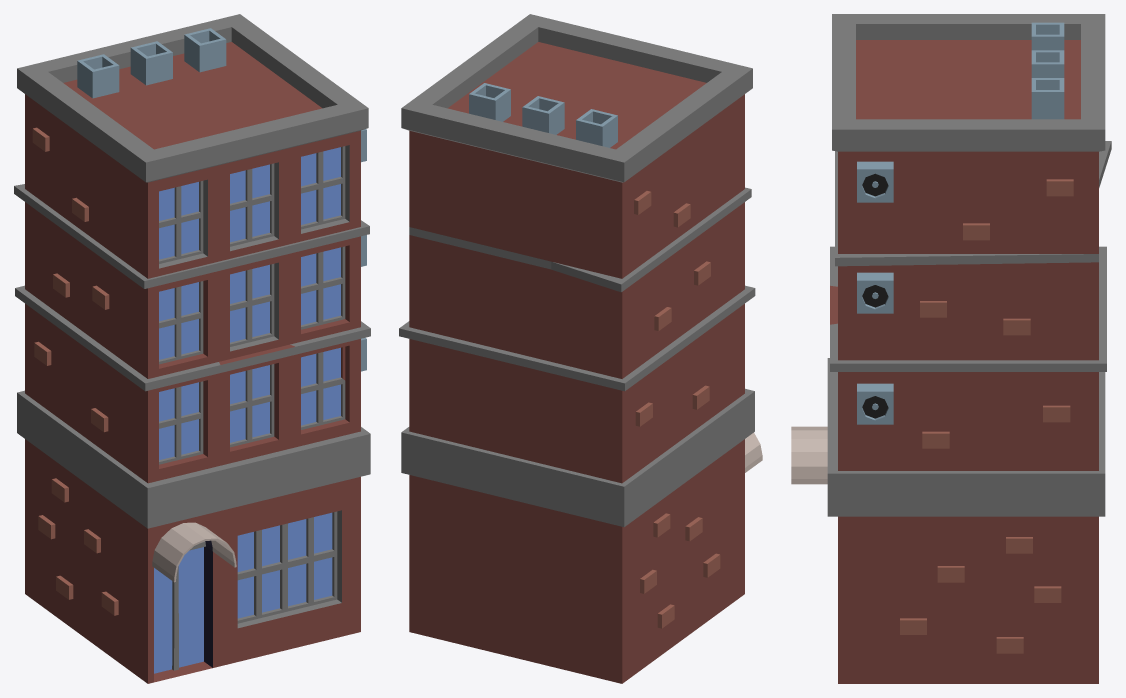
File: Building_01_v1.fbx
3 renders of one model, left to right at view 1: azimuth 30°, elevation 25°; view 2: azimuth 150°, elevation 25°; view 3: azimuth 270°, elevation 25°, orthographic. The views are drawn at different scales.
Visible parts, largest first — view 1: Building, topVents, Awning, SideVent; view 2: Building, topVents; view 3: Building, SideVent, topVents, Awning.
Boxes of the visible parts, left/top/right/bottom form: Building: left=14, top=14, right=370, bottom=683; topVents: left=77, top=28, right=226, bottom=98; Awning: left=152, top=522, right=236, bottom=582; SideVent: left=361, top=129, right=366, bottom=371; Building: left=399, top=14, right=755, bottom=683; topVents: left=469, top=83, right=617, bottom=147; Building: left=827, top=14, right=1111, bottom=683; SideVent: left=857, top=161, right=893, bottom=424; topVents: left=1031, top=22, right=1064, bottom=119; Awning: left=791, top=426, right=827, bottom=484.
Size of the model in its own units: 881 by 1926 by 981.
